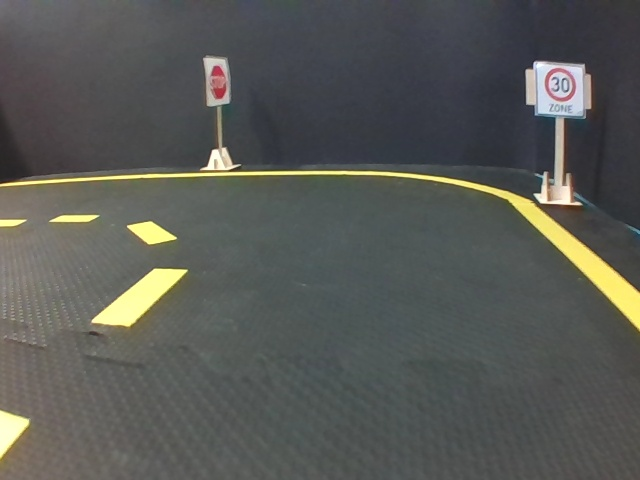30: (534, 63, 585, 118)
stop: (206, 56, 229, 103)
